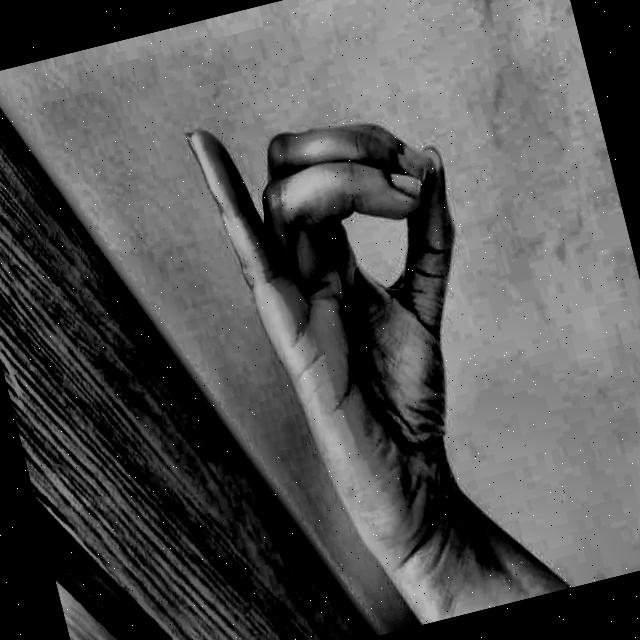Ou: (159, 44, 554, 600)
